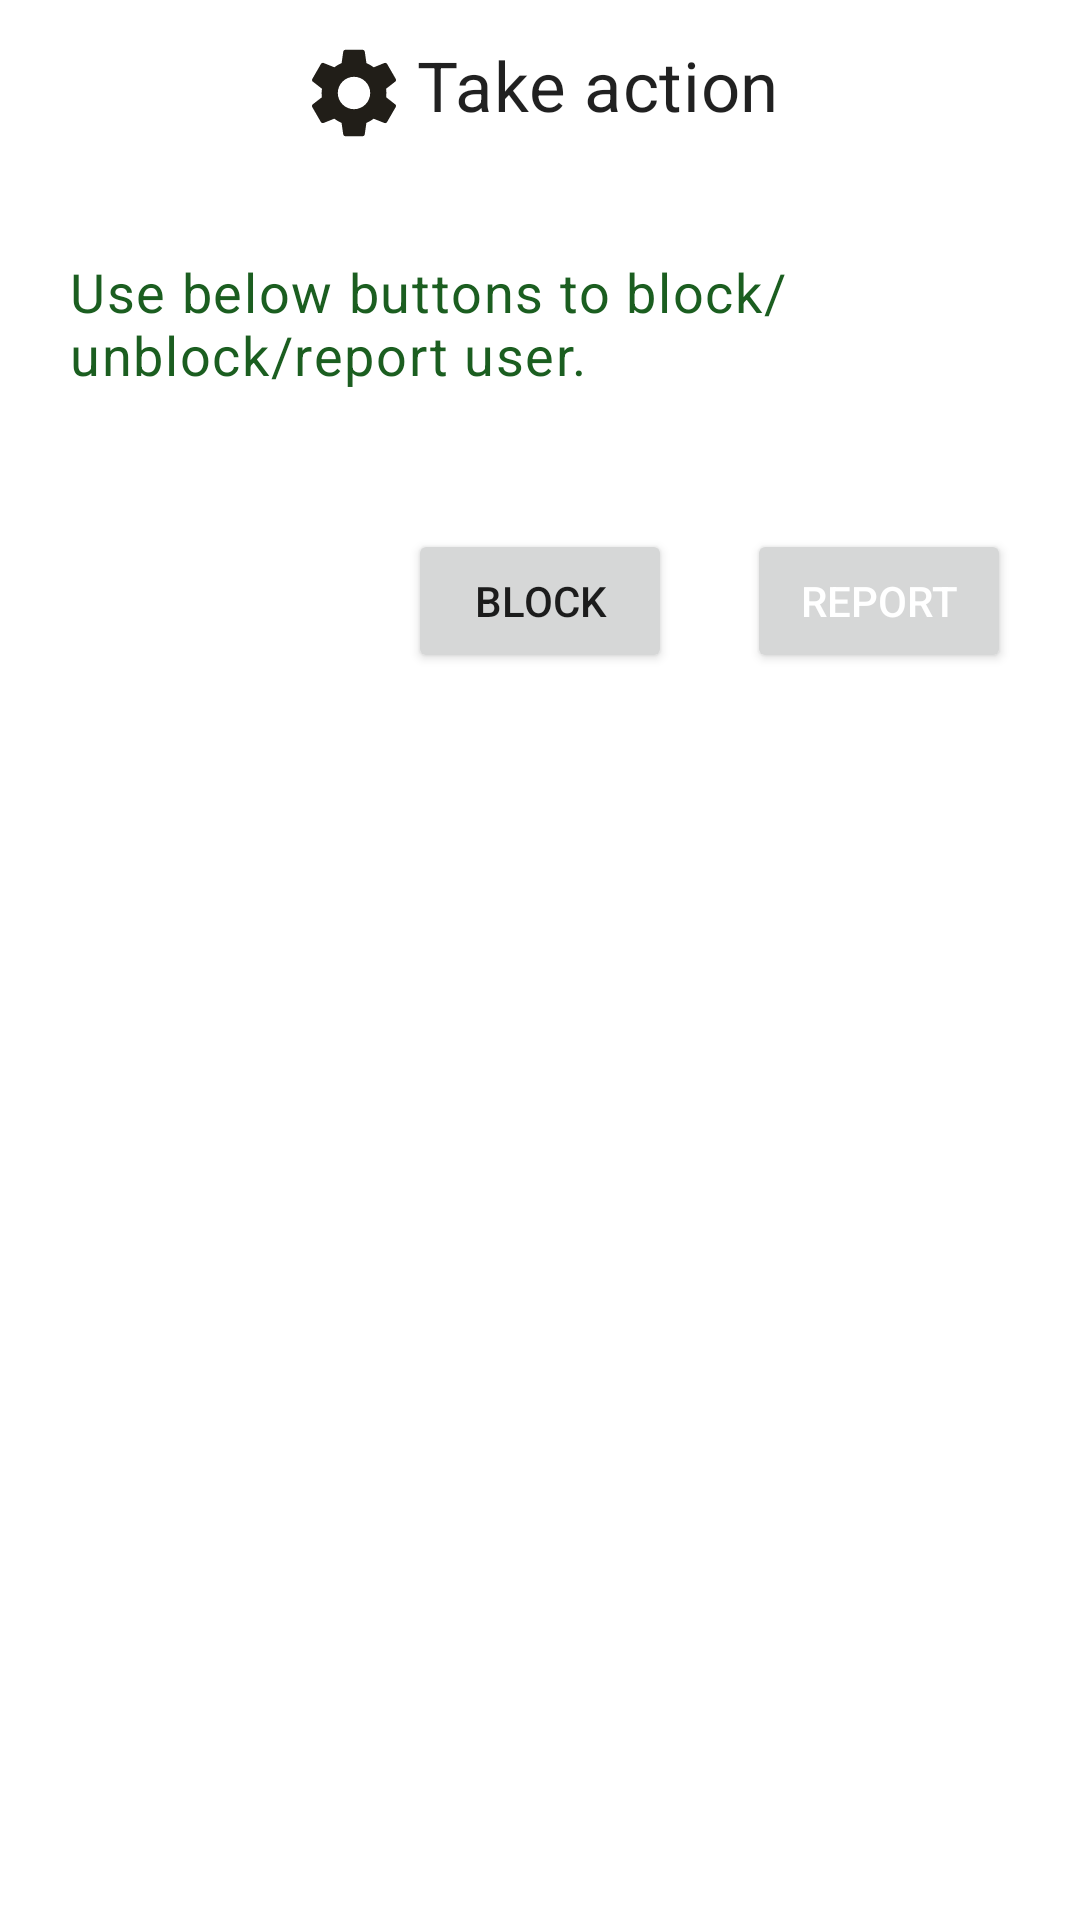

Icon click points for this 1080px x 1920px phone screenshot, format (x=x, y=y):
settings gear: (x=354, y=93)
